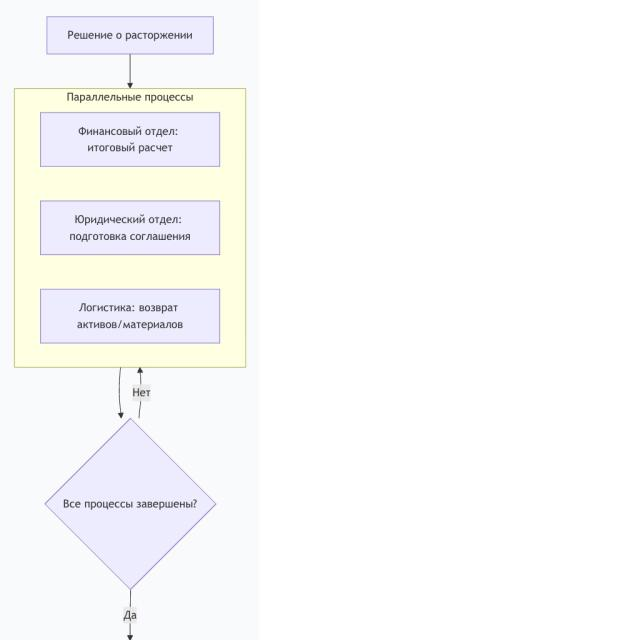arrow: (117, 367, 124, 419), (137, 368, 144, 418), (128, 589, 133, 640), (127, 55, 133, 89)
diamond: (46, 420, 214, 588)
rectangle: (40, 201, 219, 255), (40, 289, 219, 343), (40, 112, 219, 166), (47, 17, 213, 54)
text_region: (67, 92, 194, 103), (132, 384, 150, 402), (125, 606, 138, 624)
